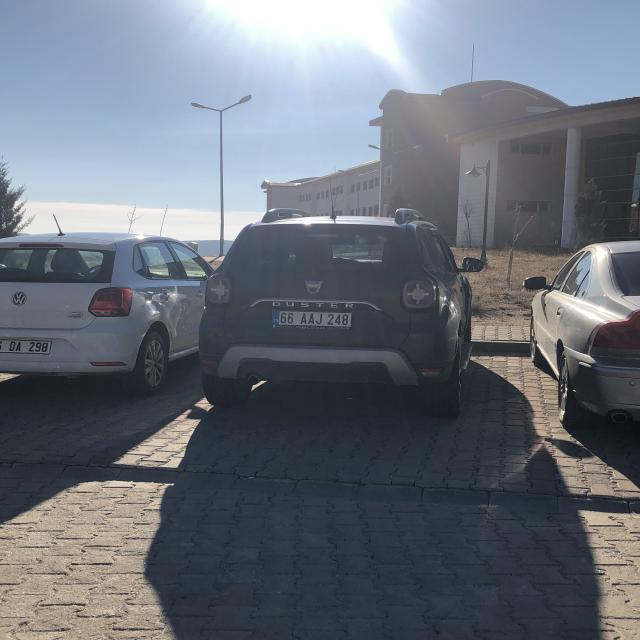license_plate: (272, 312, 351, 326), (0, 339, 49, 352)
